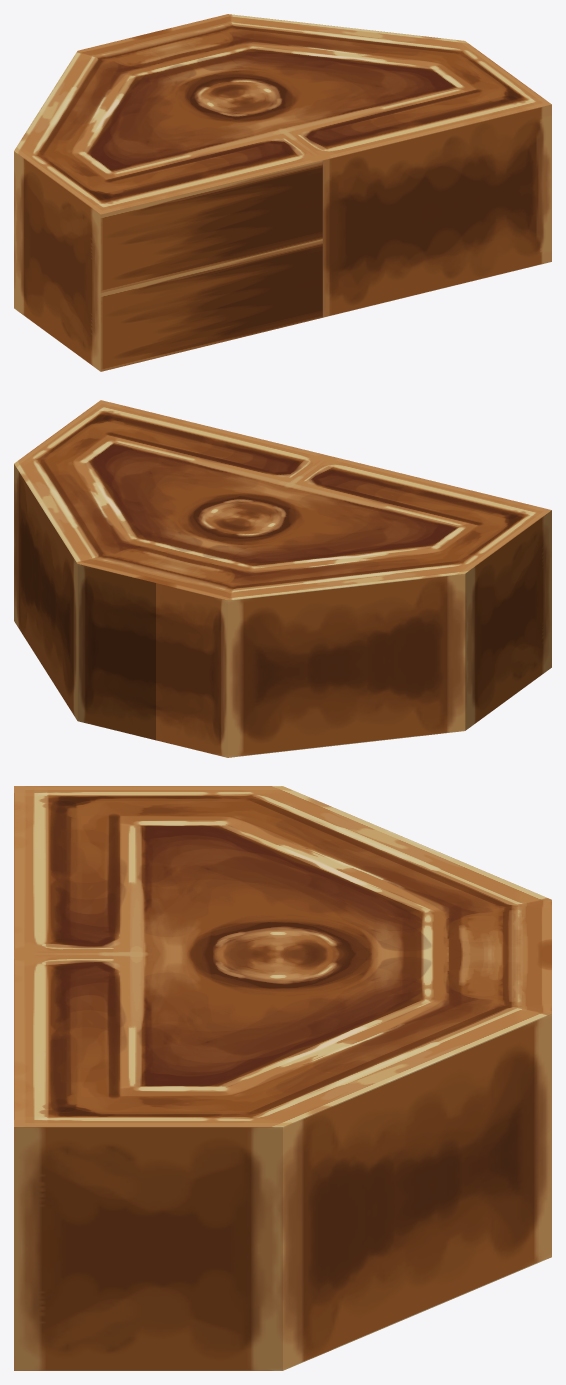
File: wallBlock_02.fbx
3 views of the same model, one above another, from view 1: azimuth 30°, elevation 25°; view 2: azimuth 150°, elevation 25°; view 3: azimuth 270°, elevation 25° (orthographic). The views are drawn at different scales.
Visible parts, largest first — view 1: wallBlock_02; view 2: wallBlock_02; view 3: wallBlock_02.
Boxes of the visible parts, x1,y1,x2,y2 form: wallBlock_02: [14, 14, 551, 371]; wallBlock_02: [14, 400, 551, 757]; wallBlock_02: [14, 786, 551, 1370].
Size of what is drawn, in the model's own units: 3 by 1 by 2.
Materials: 1 (1 with a texture image).
